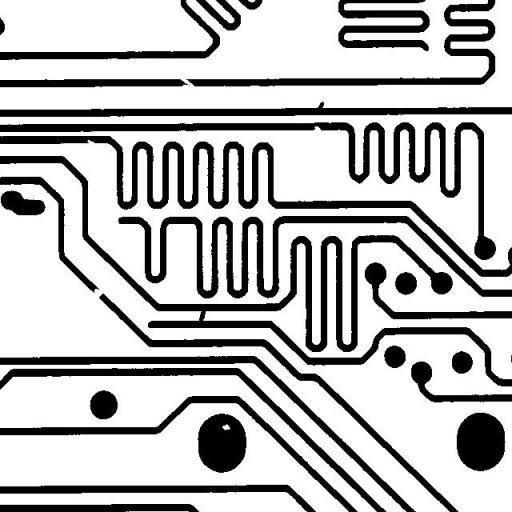mousebite: (305, 118, 329, 141), (79, 132, 102, 151)
open: (172, 69, 202, 94), (86, 281, 110, 305)
pin-hole: (214, 416, 238, 438)
short: (191, 299, 213, 331)
spur: (310, 94, 331, 118)
